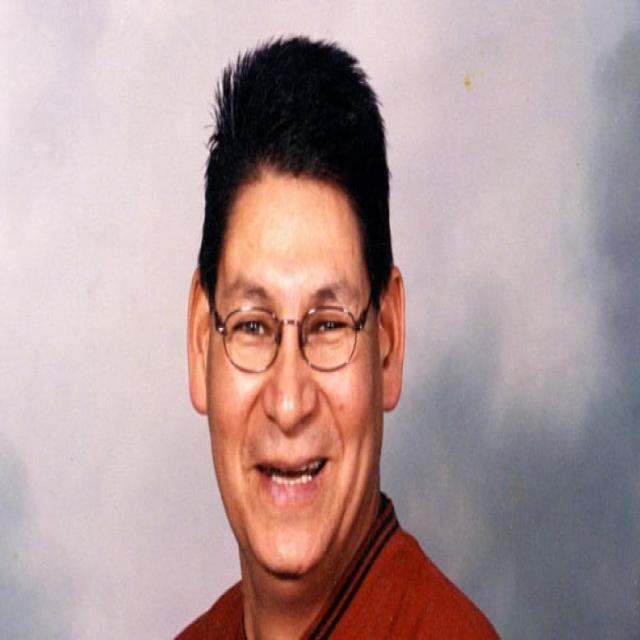mobile_phonerotation: (169, 32, 501, 636)
